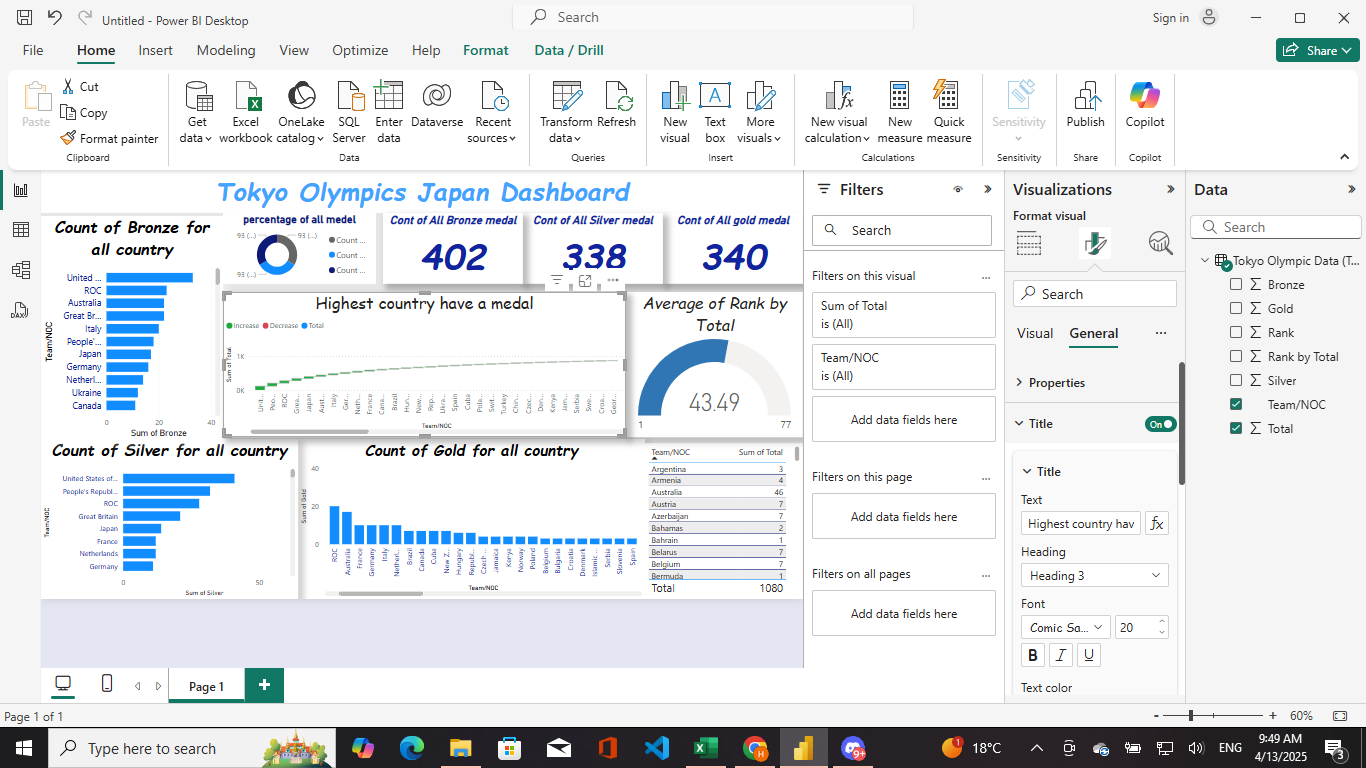

The dashboard page shown, as its layout file describes it:
{"tool":"powerbi","page":{"name":"Page 1","canvas":[1280,720],"ordinal":0},"visuals":[{"type":"clusteredColumnChart","title":"Count of Gold for all country","fields":{"Category":["Tokyo Olympic Data (Tokyo Olympic).Team/NOC"],"Y":["Sum(Tokyo Olympic Data (Tokyo Olympic).Gold)"]},"box":[431.7,451.9,582.9,268.8],"z":0},{"type":"clusteredBarChart","title":"Count of Silver for all country","fields":{"Category":["Tokyo Olympic Data (Tokyo Olympic).Team/NOC"],"Y":["Sum(Tokyo Olympic Data (Tokyo Olympic).Silver)"]},"box":[0,451.9,431.7,268.8],"z":1000},{"type":"barChart","title":"Count of Bronze for all country","fields":{"Category":["Tokyo Olympic Data (Tokyo Olympic).Team/NOC"],"Y":["Sum(Tokyo Olympic Data (Tokyo Olympic).Bronze)"]},"box":[0,77.3,305.7,378],"z":2000},{"type":"card","title":"Cont of All gold medal","fields":{"Values":["Sum(Tokyo Olympic Data (Tokyo Olympic).Gold)"]},"box":[1045.3,76.6,234.2,118.6],"z":3000},{"type":"textbox","box":[0,0,1280,72.2],"z":4000},{"type":"card","title":"Cont of All Silver medal","fields":{"Values":["Sum(Tokyo Olympic Data (Tokyo Olympic).Silver)"]},"box":[809.6,76.6,235.7,118.6],"z":5000},{"type":"card","title":"Cont of All Bronze medal","fields":{"Values":["Sum(Tokyo Olympic Data (Tokyo Olympic).Bronze)"]},"box":[574,76.6,235.7,118.6],"z":6000},{"type":"waterfallChart","title":"Highest country have a medal","fields":{"Category":["Tokyo Olympic Data (Tokyo Olympic).Team/NOC"],"Y":["Sum(Tokyo Olympic Data (Tokyo Olympic).Total)"]},"box":[305.1,205.3,678.1,242.9],"z":7000},{"type":"tableEx","title":"Count of Gold for all country","fields":{"Values":["Tokyo Olympic Data (Tokyo Olympic).Team/NOC","Sum(Tokyo Olympic Data (Tokyo Olympic).Total)"]},"box":[1014.6,458.6,265.4,262],"z":8000},{"type":"donutChart","title":"percentage of all medel ","fields":{"Y":["CountNonNull(Tokyo Olympic Data (Tokyo Olympic).Gold)","CountNonNull(Tokyo Olympic Data (Tokyo Olympic).Bronze)","CountNonNull(Tokyo Olympic Data (Tokyo Olympic).Silver)"]},"box":[305.1,76.6,257.3,118.6],"z":9000},{"type":"gauge","title":"Average of Rank by Total","fields":{"Y":["Avg(Tokyo Olympic Data (Tokyo Olympic).Rank by Total)"],"MinValue":["Min(Tokyo Olympic Data (Tokyo Olympic).Rank by Total)1"],"MaxValue":["Max(Tokyo Olympic Data (Tokyo Olympic).Rank by Total)2"]},"box":[982.7,204.9,297.3,243.6],"z":10000}]}

Visuals, with their boxes on the page's 1280x720 design canvas (x1, y1, x2, y2). These are canvas units, not pixel positions in the 1366x768 screenshot, which may show the page scaled, cropped or inside an application window:
"Count of Gold for all country" clusteredColumnChart: left=432, top=452, right=1015, bottom=721
"Count of Silver for all country" clusteredBarChart: left=0, top=452, right=432, bottom=721
"Count of Bronze for all country" barChart: left=0, top=77, right=306, bottom=455
"Cont of All gold medal" card: left=1045, top=77, right=1280, bottom=195
textbox: left=0, top=0, right=1280, bottom=72
"Cont of All Silver medal" card: left=810, top=77, right=1045, bottom=195
"Cont of All Bronze medal" card: left=574, top=77, right=810, bottom=195
"Highest country have a medal" waterfallChart: left=305, top=205, right=983, bottom=448
"Count of Gold for all country" tableEx: left=1015, top=459, right=1280, bottom=721
"percentage of all medel " donutChart: left=305, top=77, right=562, bottom=195
"Average of Rank by Total" gauge: left=983, top=205, right=1280, bottom=448
